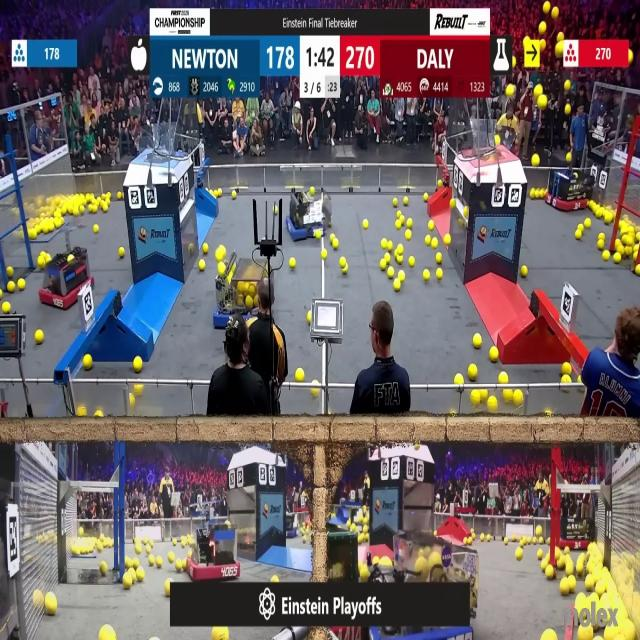ball_airborne: (556, 42, 564, 56), (537, 96, 545, 109), (506, 86, 514, 98), (538, 23, 546, 35), (524, 37, 532, 49), (542, 2, 549, 15), (534, 86, 541, 98), (552, 6, 559, 18), (565, 104, 572, 116), (532, 57, 539, 69), (532, 156, 539, 167), (538, 39, 545, 49), (564, 80, 571, 90), (629, 51, 634, 64), (494, 136, 500, 146), (566, 152, 572, 161), (512, 116, 518, 125), (500, 114, 506, 122), (513, 58, 517, 69)
ball_ground: (45, 594, 56, 616), (100, 627, 114, 640), (560, 580, 570, 597), (488, 396, 498, 409), (542, 630, 555, 640), (586, 579, 596, 592), (468, 363, 476, 379), (122, 574, 131, 588), (134, 356, 142, 371), (83, 354, 91, 369), (515, 390, 523, 405), (568, 579, 576, 594), (470, 390, 479, 403), (565, 562, 574, 575), (472, 335, 480, 349), (36, 331, 44, 345), (100, 561, 108, 575), (503, 389, 512, 401), (577, 628, 586, 640), (295, 367, 303, 380), (544, 566, 552, 579), (136, 568, 144, 581), (216, 247, 224, 260), (491, 348, 498, 362), (165, 583, 172, 597), (562, 362, 570, 374), (381, 558, 391, 567), (2, 303, 10, 314), (499, 373, 507, 384), (455, 374, 463, 385), (77, 408, 85, 419), (393, 280, 400, 292), (6, 268, 13, 280), (614, 252, 622, 262), (480, 389, 488, 399), (57, 216, 65, 226), (29, 230, 37, 240), (17, 279, 24, 290), (7, 282, 14, 293), (602, 250, 609, 261), (406, 229, 413, 240), (445, 235, 452, 246), (218, 265, 225, 276), (604, 212, 611, 223), (289, 256, 295, 268), (134, 384, 142, 393), (435, 253, 442, 263), (435, 270, 442, 280), (397, 272, 404, 282), (155, 557, 162, 567), (331, 240, 338, 250), (396, 245, 403, 255), (539, 560, 546, 570), (123, 558, 130, 568), (44, 254, 51, 264), (200, 262, 206, 273), (522, 267, 528, 278), (388, 268, 394, 279), (176, 560, 182, 571), (38, 255, 44, 266), (562, 376, 570, 384), (380, 240, 388, 248), (272, 574, 279, 583), (203, 244, 210, 253), (312, 388, 319, 397), (595, 209, 602, 218), (625, 246, 632, 255), (410, 256, 416, 266), (517, 550, 523, 560), (598, 240, 604, 250), (428, 220, 434, 230), (341, 257, 347, 267), (404, 198, 410, 208), (381, 262, 387, 272), (536, 550, 542, 560), (316, 231, 322, 241), (431, 238, 437, 248), (408, 218, 414, 228), (385, 254, 391, 264), (169, 553, 175, 563), (586, 218, 592, 228), (387, 240, 393, 250), (148, 556, 154, 566), (535, 526, 541, 536), (617, 240, 623, 250), (134, 558, 140, 568), (535, 188, 541, 198), (396, 255, 403, 263), (90, 205, 97, 213), (93, 224, 100, 232), (521, 538, 528, 546), (424, 271, 429, 282), (362, 219, 368, 228), (392, 199, 398, 208), (342, 267, 348, 276), (73, 207, 79, 216), (118, 248, 123, 258), (322, 249, 327, 259), (308, 312, 313, 322), (96, 412, 103, 419), (574, 232, 580, 240), (395, 220, 401, 228), (425, 238, 431, 246), (136, 544, 142, 552), (537, 536, 543, 544), (423, 192, 428, 201), (451, 200, 456, 209), (79, 206, 84, 215), (530, 188, 535, 197), (598, 234, 604, 241), (395, 211, 401, 218), (576, 223, 582, 230), (532, 536, 538, 543), (636, 266, 640, 276), (275, 207, 280, 215), (146, 544, 151, 552), (172, 538, 178, 544), (116, 191, 121, 198), (503, 537, 508, 544), (329, 234, 334, 241), (107, 191, 112, 198), (481, 534, 486, 541), (234, 190, 238, 198), (437, 183, 441, 191), (104, 205, 108, 213), (634, 252, 638, 260), (464, 536, 468, 544), (218, 188, 222, 196), (0, 290, 4, 298), (488, 537, 492, 545), (513, 534, 517, 541), (546, 537, 550, 544), (636, 235, 640, 242), (576, 377, 580, 383)
goal: (467, 122, 521, 160), (130, 129, 189, 160)
robot_blue: (408, 540, 475, 640), (213, 260, 263, 330), (288, 189, 332, 241), (284, 513, 299, 537)
robot_red: (189, 518, 241, 580), (41, 251, 90, 311), (546, 163, 592, 210), (558, 501, 592, 550)
